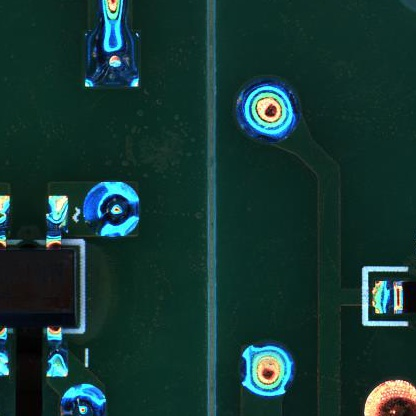spot: (236, 80, 300, 145), (82, 29, 142, 93), (85, 182, 141, 239), (239, 341, 296, 397)
